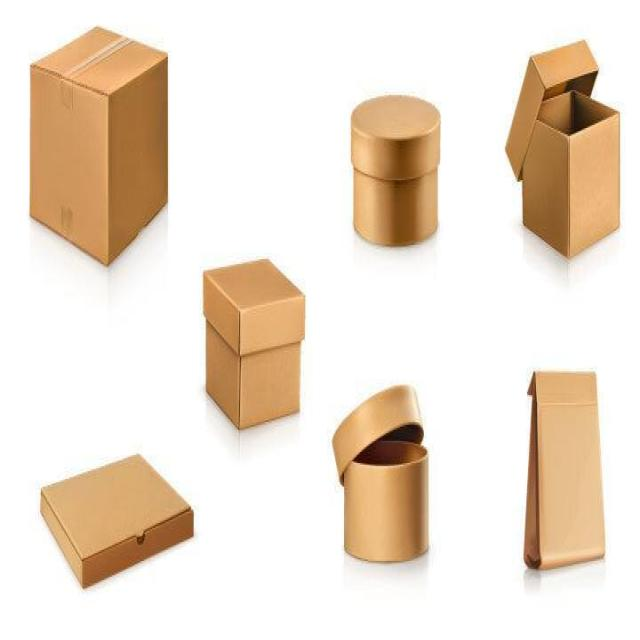Garbage: (505, 39, 622, 263)
Pathole: (30, 26, 171, 268), (41, 451, 195, 590), (203, 257, 306, 432)
